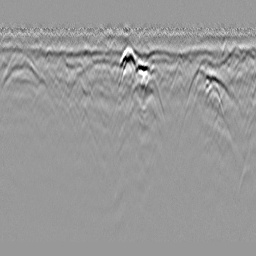cavity: (118, 45, 137, 67)
